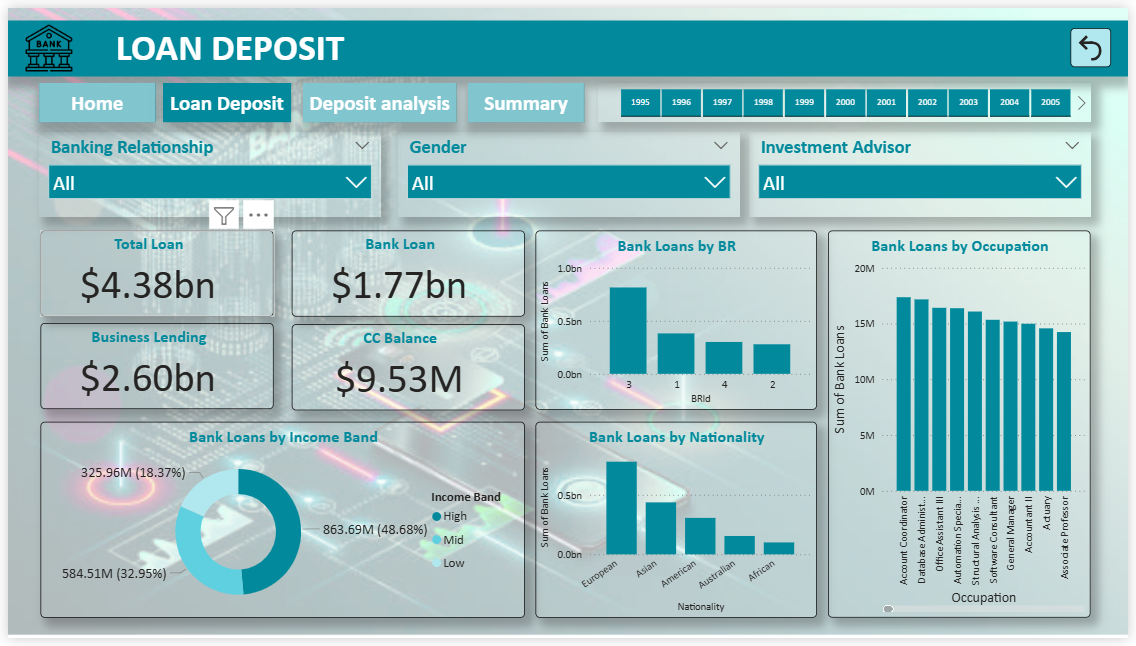

What the dashboard file says about the page in this screenshot:
{"tool":"powerbi","page":{"name":"Loan Deposit","canvas":[1280,720],"ordinal":1},"visuals":[{"type":"textbox","box":[0,13.8,1280,63.8],"z":0},{"type":"image","box":[0,13.8,93.8,63.8],"z":1000},{"type":"actionButton","box":[1213.8,22.5,46.2,45],"z":2000},{"type":"slicer","fields":{"Values":["Banking Relationship.Banking Relationship"]},"box":[35,141.2,390,97.5],"z":3000},{"type":"slicer","fields":{"Values":["Gender.Gender"]},"box":[445,141.2,390,97.5],"z":4000},{"type":"slicer","fields":{"Values":["Investment Advisor.Investment Advisor"]},"box":[847.5,141.2,390,97.5],"z":5000},{"type":"textbox","box":[35,86.2,132.5,45],"z":6000},{"type":"textbox","box":[177.5,86.2,146.2,45],"z":7000},{"type":"textbox","box":[525,86.2,132.5,45],"z":8000},{"type":"textbox","box":[337.5,86.2,175,45],"z":9000},{"type":"actionButton","box":[35,86.2,132.5,45],"z":10000},{"type":"actionButton","box":[177.5,86.2,146.2,45],"z":11000},{"type":"actionButton","box":[337.5,86.2,175,45],"z":12000},{"type":"actionButton","box":[525,86.2,132.5,45],"z":13000},{"type":"slicer","fields":{"Values":["Banking.Joined Bank.Variation.Date Hierarchy.Year"]},"box":[675,86.2,563.8,45],"z":14000},{"type":"card","title":"Business Lending","fields":{"Values":["DAX Measures.Business Lending"]},"box":[37.5,360,266.2,98.8],"z":15000},{"type":"card","title":"Bank Loan","fields":{"Values":["DAX Measures.Bank Loan"]},"box":[323.8,253.8,266.2,98.8],"z":16000},{"type":"card","title":"Total Loan","fields":{"Values":["DAX Measures.Total Loan"]},"box":[37.5,254,266.2,98.8],"z":17000},{"type":"card","title":"CC Balance","fields":{"Values":["DAX Measures.Credit Cards Balance"]},"box":[323.8,361.2,266.2,98.8],"z":18000},{"type":"donutChart","title":"Bank Loans by Income Band","fields":{"Y":["Sum(Banking.Bank Loans)"],"Category":["Banking.Fee Structure"]},"box":[37.5,472.5,553.8,223.8],"z":19000},{"type":"columnChart","title":"Bank Loans by BR","fields":{"Category":["Banking.BRId"],"Y":["Sum(Banking.Bank Loans)"]},"box":[602.5,253.8,321.2,205],"z":20000},{"type":"columnChart","title":"Bank Loans by Nationality","fields":{"Y":["Sum(Banking.Bank Loans)"],"Category":["Banking.Nationality"]},"box":[602.5,472.5,321.2,223.8],"z":21000},{"type":"columnChart","title":"Bank Loans by Occupation","fields":{"Category":["Banking.Occupation"],"Y":["Sum(Banking.Bank Loans)"]},"box":[937.5,253.8,300,442.5],"z":22000}]}

Visuals, with their boxes in screenshot pixels (x1, y1, x2, y2), scaled from the page's 1280x720 canvas onto the 1136x646 screenshot:
textbox: bbox(0, 12, 1135, 70)
image: bbox(0, 12, 83, 70)
actionButton: bbox(1077, 20, 1118, 61)
slicer - Banking Relationship.Banking Relationship: bbox(31, 127, 377, 214)
slicer - Gender.Gender: bbox(395, 127, 741, 214)
slicer - Investment Advisor.Investment Advisor: bbox(752, 127, 1098, 214)
textbox: bbox(31, 77, 149, 118)
textbox: bbox(158, 77, 287, 118)
textbox: bbox(466, 77, 584, 118)
textbox: bbox(300, 77, 455, 118)
actionButton: bbox(31, 77, 149, 118)
actionButton: bbox(158, 77, 287, 118)
actionButton: bbox(300, 77, 455, 118)
actionButton: bbox(466, 77, 584, 118)
slicer - Banking.Joined Bank.Variation.Date Hierarchy.Year: bbox(599, 77, 1099, 118)
"Business Lending" card: bbox(33, 323, 270, 412)
"Bank Loan" card: bbox(287, 228, 524, 316)
"Total Loan" card: bbox(33, 228, 270, 317)
"CC Balance" card: bbox(287, 324, 524, 413)
"Bank Loans by Income Band" donutChart: bbox(33, 424, 525, 625)
"Bank Loans by BR" columnChart: bbox(535, 228, 820, 412)
"Bank Loans by Nationality" columnChart: bbox(535, 424, 820, 625)
"Bank Loans by Occupation" columnChart: bbox(832, 228, 1098, 625)
